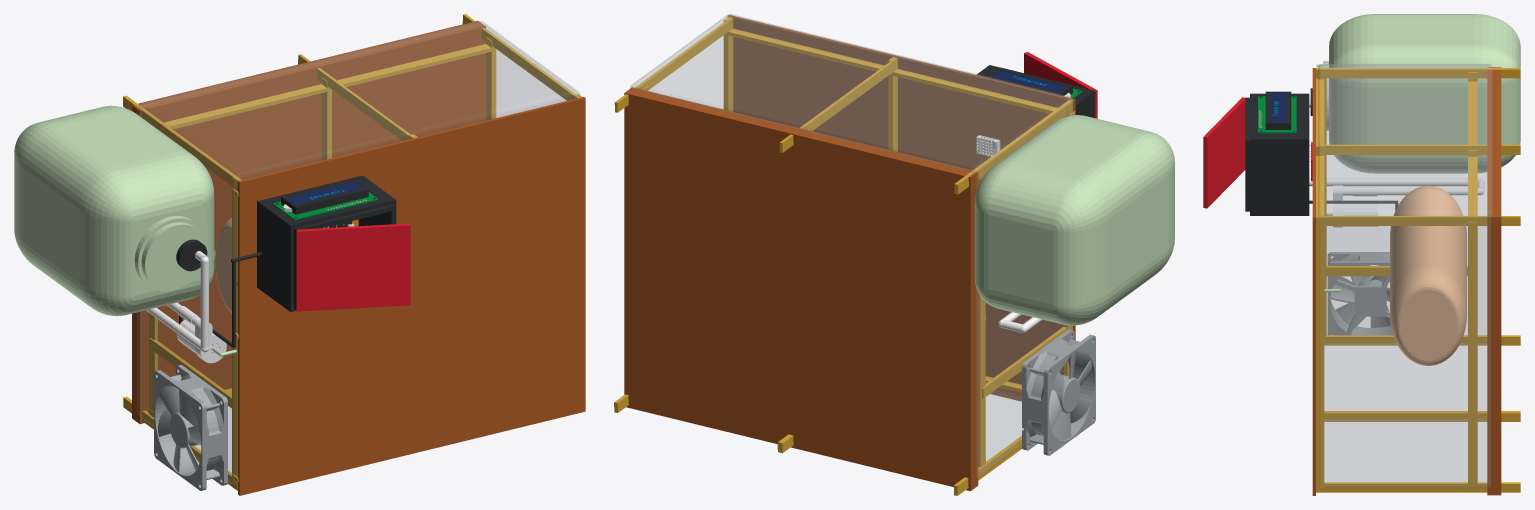
Rendered from tinker.obj.
3 views of the same model, side by side, from view 1: azimuth 30°, elevation 25°; view 2: azimuth 150°, elevation 25°; view 3: azimuth 270°, elevation 25° (orthographic). The views are drawn at different scales.
Parts seen in each view (by area): view 1: obj_65, obj_16, obj_15, obj_5, obj_28, obj_48, obj_9, obj_63, obj_7, obj_10, obj_35, obj_45 (+9 smaller); view 2: obj_15, obj_16, obj_5, obj_65, obj_48, obj_61, obj_59, obj_44, obj_45, obj_38, obj_10, obj_28 (+5 smaller); view 3: obj_16, obj_5, obj_17, obj_9, obj_15, obj_48, obj_28, obj_51, obj_50, obj_45, obj_52, obj_59 (+12 smaller).
Part boxes in pixels (x1=…): obj_65: x1=238, y1=97, x2=585, y2=495; obj_16: x1=137, y1=21, x2=579, y2=485; obj_15: x1=132, y1=20, x2=485, y2=423; obj_5: x1=14, y1=105, x2=214, y2=316; obj_28: x1=296, y1=223, x2=410, y2=311; obj_48: x1=154, y1=364, x2=227, y2=490; obj_9: x1=257, y1=175, x2=396, y2=311; obj_63: x1=164, y1=44, x2=494, y2=129; obj_7: x1=141, y1=222, x2=207, y2=290; obj_10: x1=272, y1=179, x2=378, y2=220; obj_35: x1=232, y1=177, x2=237, y2=490; obj_45: x1=123, y1=95, x2=241, y2=189; obj_15: x1=624, y1=87, x2=978, y2=491; obj_16: x1=630, y1=14, x2=1072, y2=477; obj_5: x1=974, y1=115, x2=1174, y2=325; obj_65: x1=727, y1=15, x2=1075, y2=401; obj_48: x1=1022, y1=329, x2=1095, y2=455; obj_61: x1=724, y1=28, x2=1075, y2=115; obj_59: x1=779, y1=59, x2=897, y2=152; obj_44: x1=614, y1=20, x2=733, y2=112; obj_45: x1=954, y1=99, x2=1073, y2=194; obj_38: x1=978, y1=176, x2=985, y2=467; obj_10: x1=986, y1=67, x2=1082, y2=98; obj_28: x1=1024, y1=52, x2=1097, y2=118; obj_16: x1=1318, y1=64, x2=1492, y2=488; obj_5: x1=1329, y1=14, x2=1520, y2=173; obj_17: x1=1390, y1=185, x2=1466, y2=365; obj_9: x1=1245, y1=93, x2=1309, y2=215; obj_15: x1=1487, y1=67, x2=1501, y2=495; obj_48: x1=1327, y1=252, x2=1392, y2=335; obj_28: x1=1203, y1=97, x2=1245, y2=208; obj_51: x1=1468, y1=221, x2=1477, y2=486; obj_50: x1=1316, y1=217, x2=1324, y2=491; obj_45: x1=1316, y1=68, x2=1520, y2=78; obj_52: x1=1316, y1=482, x2=1520, y2=492; obj_59: x1=1324, y1=144, x2=1520, y2=154.
Size of the model in its own units: 450 by 297 by 296.
